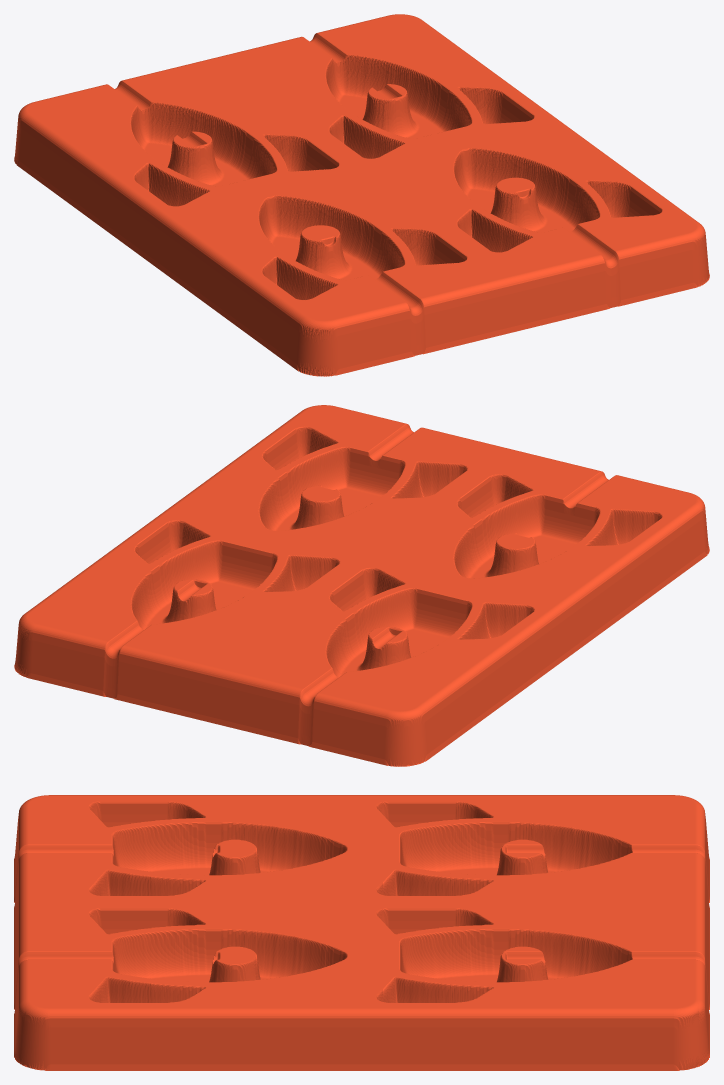
File: mold.glb
The picture shows the model from 3 angles, top to bottom: view 1: azimuth 30°, elevation 25°; view 2: azimuth 150°, elevation 25°; view 3: azimuth 270°, elevation 25°; orthographic projection. The views are drawn at different scales.
Visible parts, largest first — view 1: geometry_0; view 2: geometry_0; view 3: geometry_0.
Part boxes in pixels (left/top/right/bottom): geometry_0: left=14, top=14, right=709, bottom=376; geometry_0: left=14, top=405, right=709, bottom=766; geometry_0: left=14, top=795, right=709, bottom=1070.
Bounding box in the file's own units: 0.1324 × 0.0155 × 0.1735.
